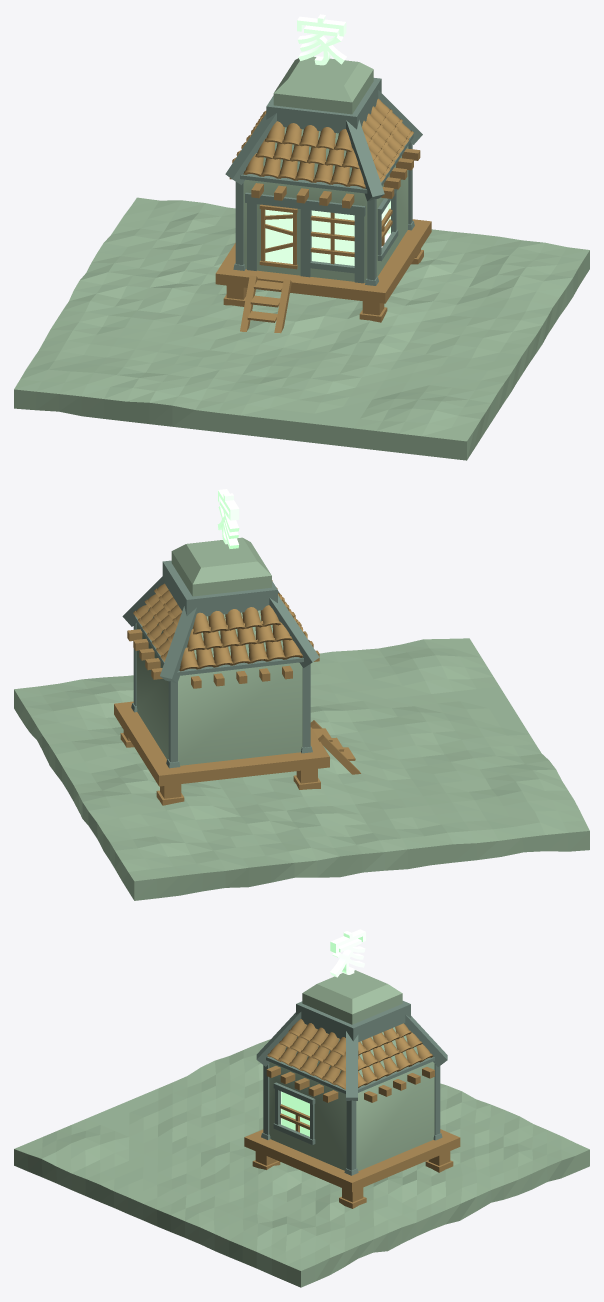
Rendered from PortfolioWebsite3JS.glb.
3 renders of one model, top to bottom at view 1: azimuth 30°, elevation 25°; view 2: azimuth 150°, elevation 25°; view 3: azimuth 270°, elevation 25°, orthographic. The views are drawn at different scales.
Parts seen in each view (by area): view 1: Land, Cube.5 (×2), Cube, Cube.15, TextExtrude, LeftWindow, Cube.11, WindowBox, Cube.14, Cube.10, Cube.6, Cube.9 (+3 smaller); view 2: Land, Cube.5, Cube, Cube.15, Cube.13, Cube.14, TextExtrude, Cube.10, Cube.8, Cube.9; view 3: Land, Cube.5, Cube, Cube.15, TextExtrude, Cube.10, Cube.7, Cube.12, RightWindow, Cube.13, Cube.11, Cube.8 (+1 smaller).
Part boxes in pixels (x1,y1,x2,y2): Land: (14,197,589,460); Cube.5 (×2): (243,56,408,282); Cube: (215,219,431,303); Cube.15: (266,78,381,133); TextExtrude: (297,14,346,65); LeftWindow: (311,210,354,265); Cube.11: (346,120,384,201); WindowBox: (265,209,292,263); Cube.14: (225,113,276,184); Cube.10: (240,134,413,193); Cube.6: (365,198,378,285); Cube.9: (233,182,245,270); Land: (14,638,589,900); Cube.5: (136,537,302,765); Cube: (114,701,329,786); Cube.15: (162,560,277,616); Cube.13: (160,606,196,683); Cube.14: (269,595,319,667); TextExtrude: (217,489,239,548); Cube.10: (135,616,303,675); Cube.8: (166,681,180,768); Cube.9: (301,664,312,753); Land: (14,1039,589,1287); Cube.5: (269,970,434,1170); Cube: (244,1129,460,1191); Cube.15: (296,1001,410,1041); TextExtrude: (330,929,365,977); Cube.10: (266,1057,434,1093); Cube.7: (344,1100,358,1175); Cube.12: (346,1031,358,1100); RightWindow: (281,1091,309,1136); Cube.13: (404,1015,447,1066); Cube.11: (256,1012,301,1066); Cube.8: (433,1064,442,1140).
Size of the model in its own units: 566 by 274 by 566.
